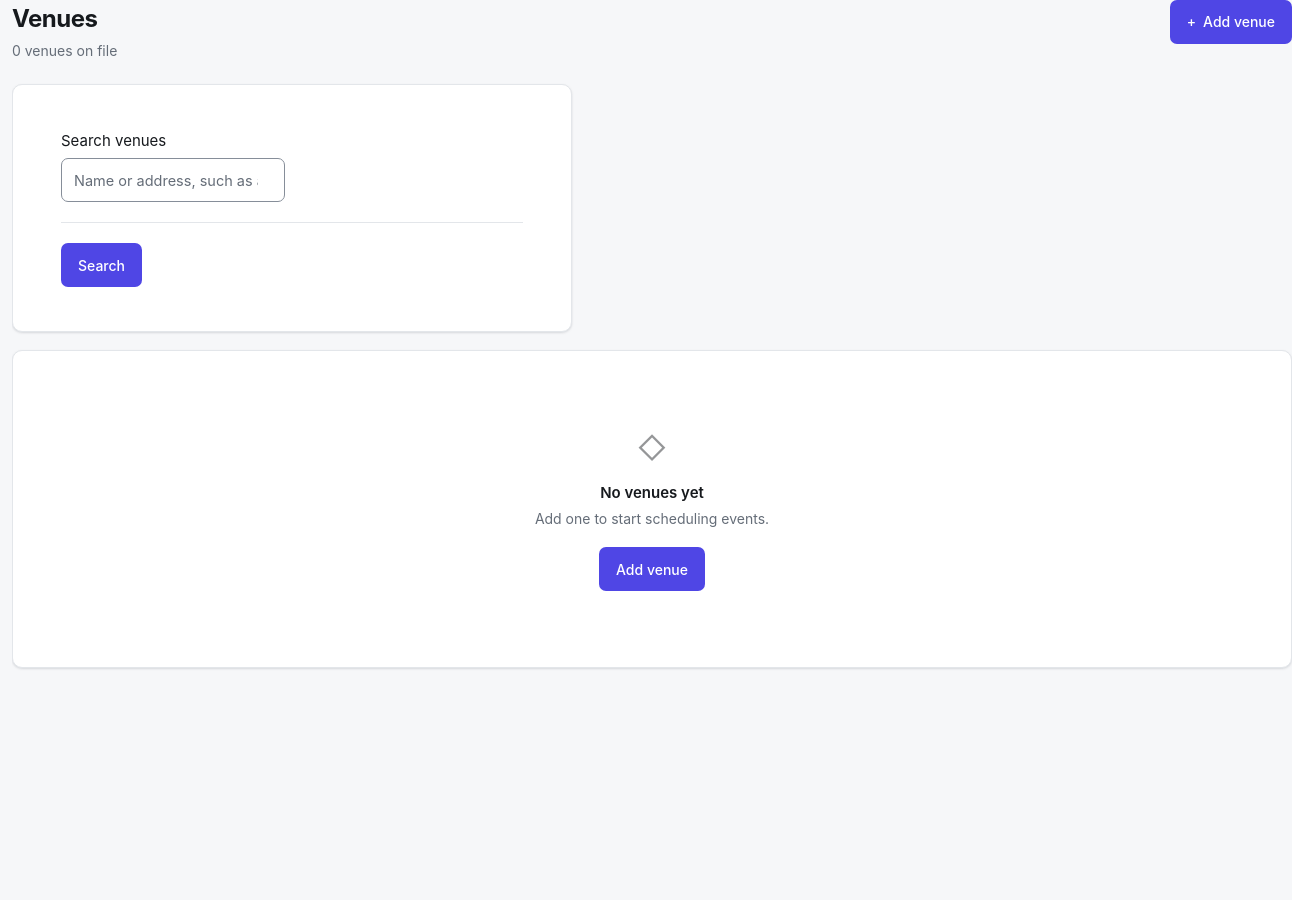
Test case: Venue search › sends q, keeps it in the address, and says when nothing matches
The image size is (1292, 900).
Type "lexington" into the search field labelled "Search venues".
click(173, 180); type("lexington")  # box [61, 158, 285, 202]
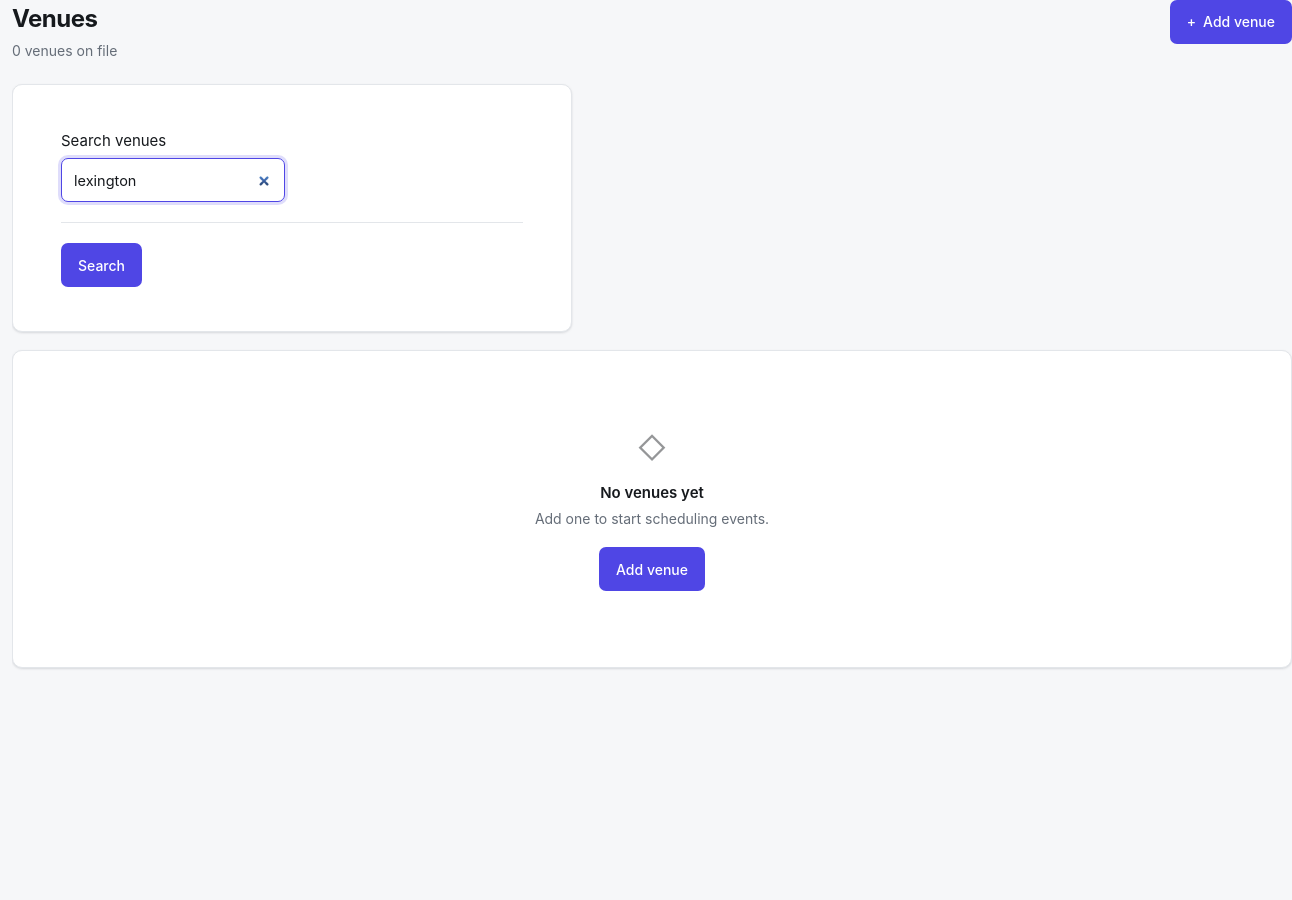
Click the button "Search".
click(102, 265)  # box [61, 243, 142, 287]
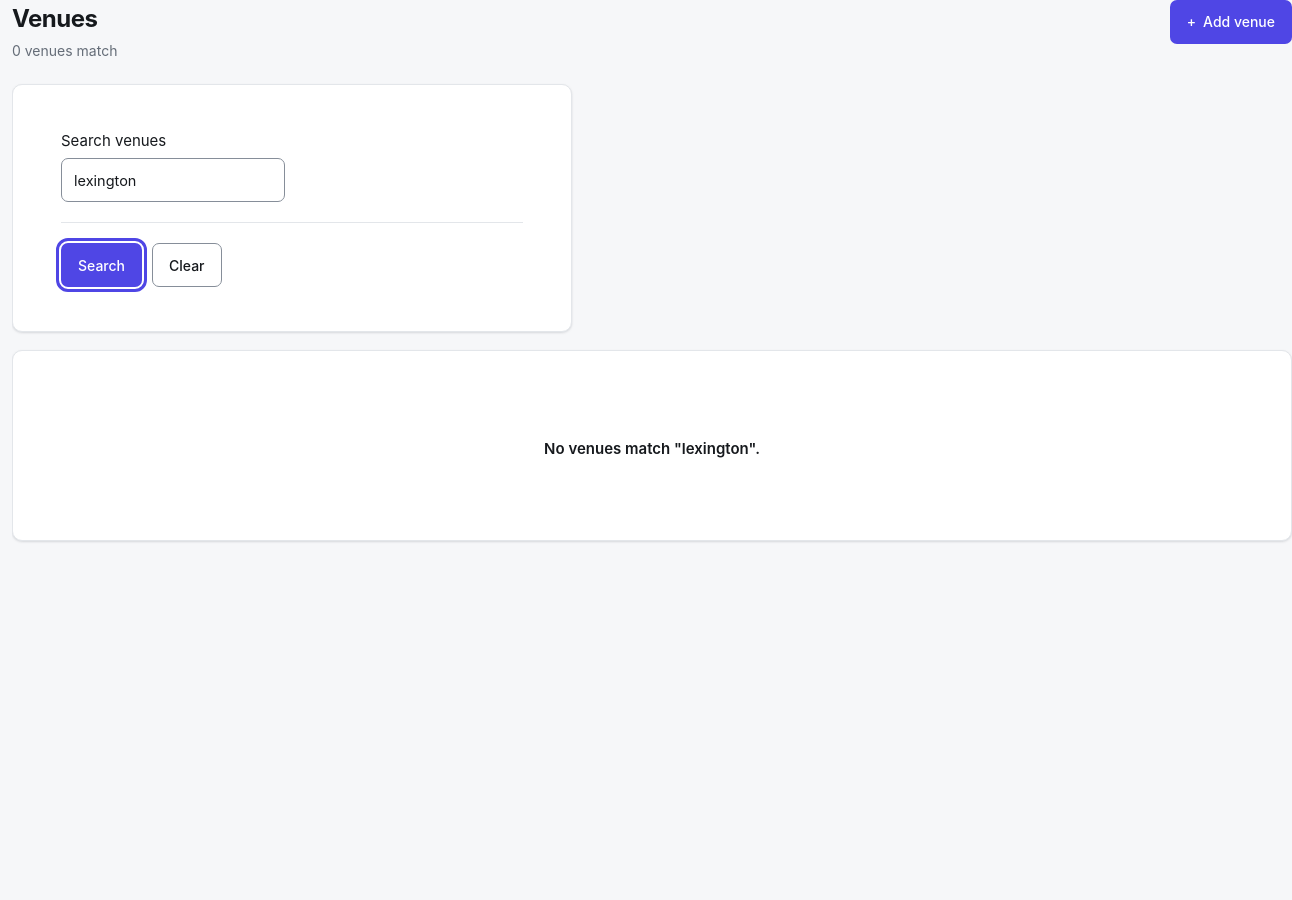
Expected: the text "No venues match \"lexington\"." is shown, [544, 439, 760, 458]
